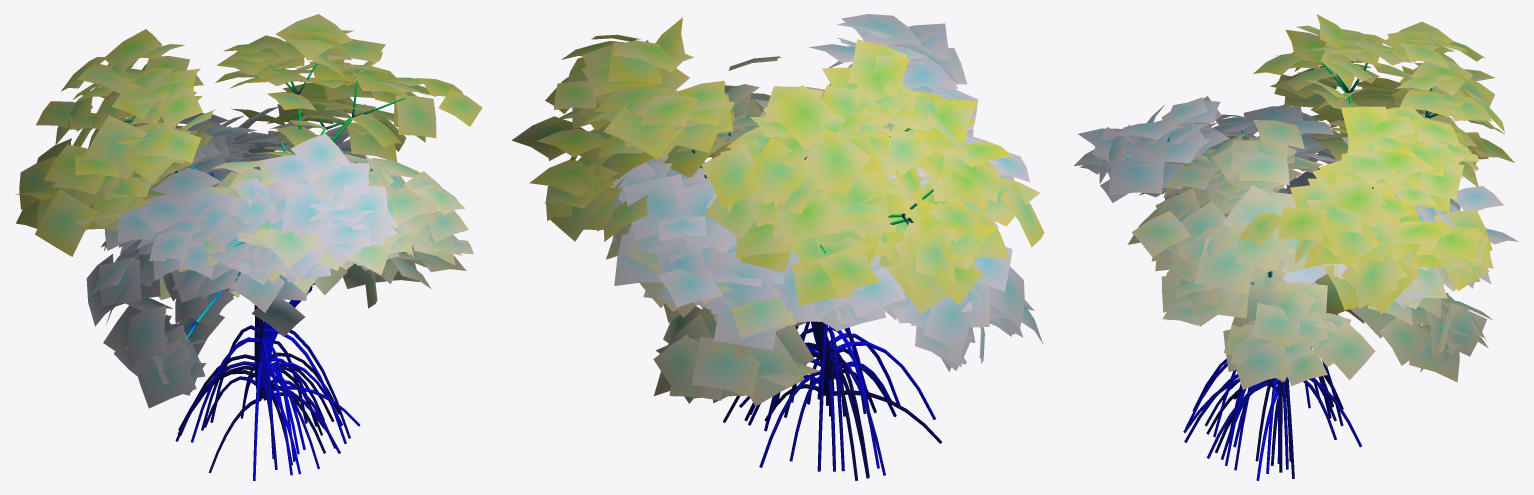
Rendered from mangrove.glb.
The picture shows the model from 3 angles, left to right: view 1: azimuth 30°, elevation 25°; view 2: azimuth 150°, elevation 25°; view 3: azimuth 270°, elevation 25°; orthographic projection. The views are drawn at different scales.
Visible parts, largest first — view 1: mangrove0_lod0, mangrove1_lod0, mangrove2_lod0; view 2: mangrove1_lod0, mangrove0_lod0, mangrove2_lod0; view 3: mangrove1_lod0, mangrove2_lod0, mangrove0_lod0.
Part boxes in pixels (left/top/right/bottom): mangrove0_lod0: left=86, top=106, right=398, bottom=480; mangrove1_lod0: left=15, top=14, right=482, bottom=473; mangrove2_lod0: left=159, top=130, right=473, bottom=469; mangrove1_lod0: left=511, top=17, right=1044, bottom=480; mangrove0_lod0: left=597, top=14, right=1043, bottom=468; mangrove2_lod0: left=606, top=56, right=932, bottom=475; mangrove1_lod0: left=1206, top=14, right=1514, bottom=478; mangrove2_lod0: left=1127, top=120, right=1492, bottom=470; mangrove0_lod0: left=1074, top=96, right=1518, bottom=480.
Size of what is drawn, in the model's own units: 10.79 by 9.12 by 9.56.
